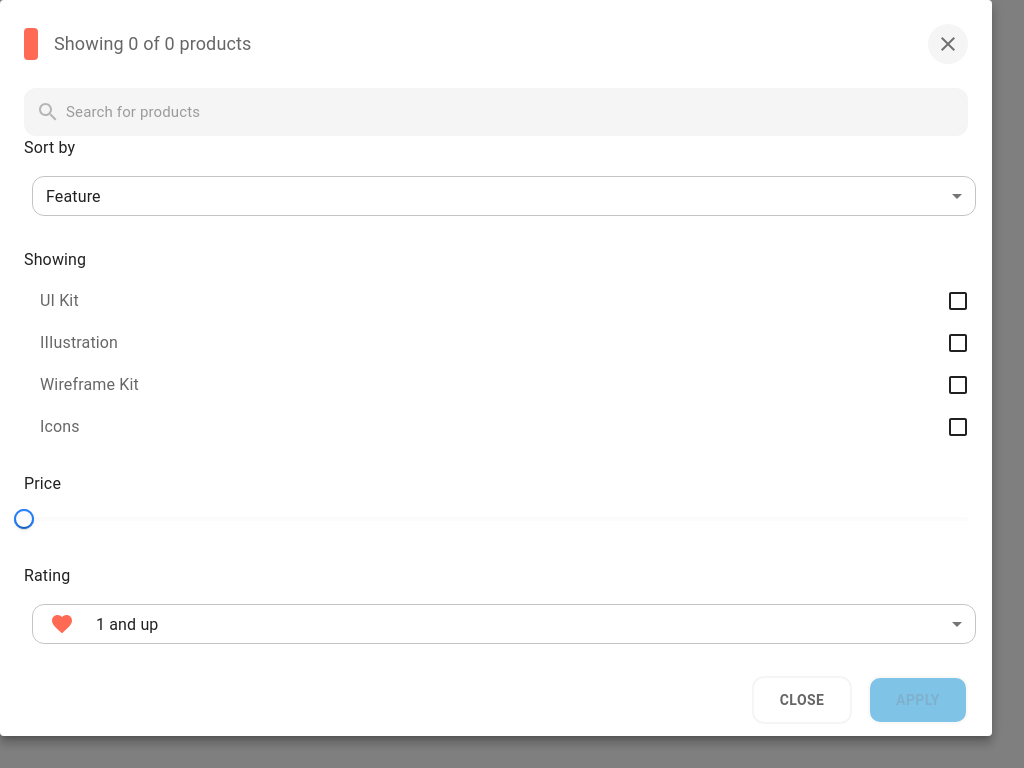
Test: ProductFilter Test › change to close button when reset filter modal
Step 1. Click the checkbox labelled "UI Kit" → (59, 300), box 40,289 -> 970,313
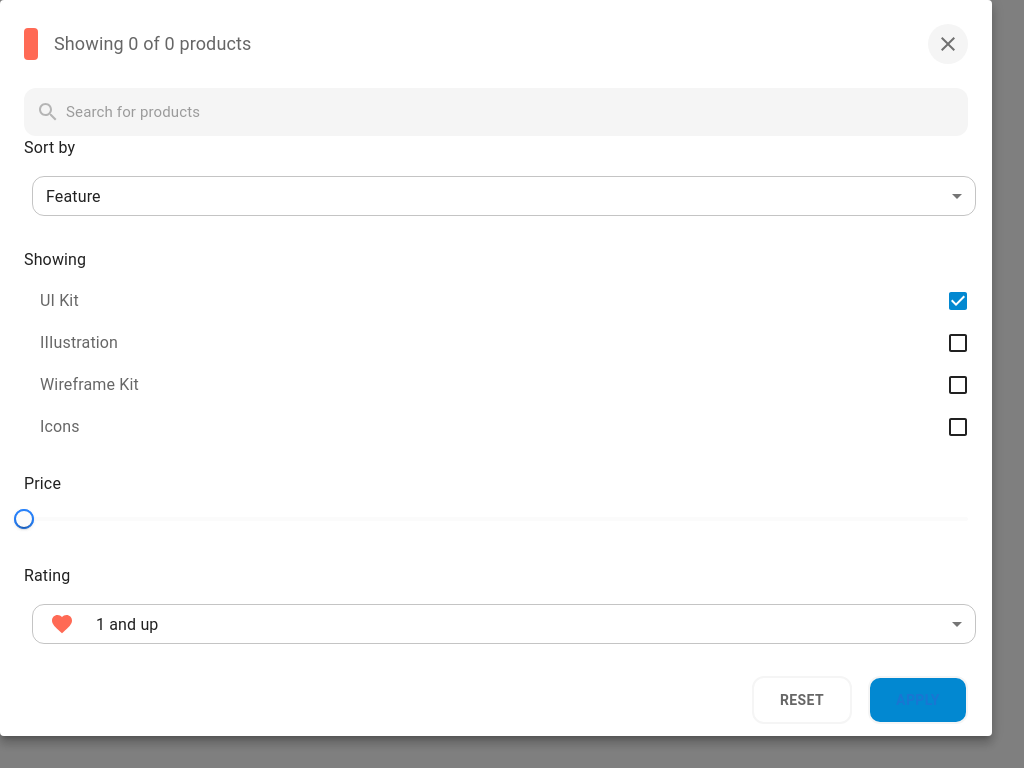
Step 2. Click the checkbox labelled "IIIustration" → (79, 342), box 40,331 -> 970,355
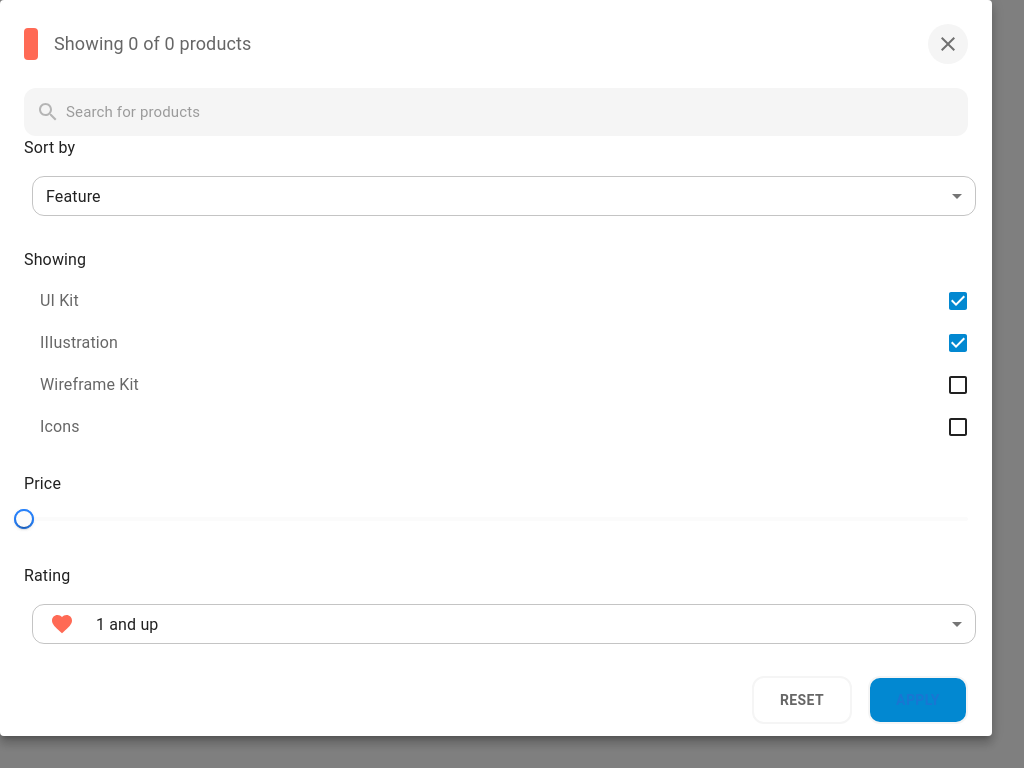
Step 3. Click the checkbox labelled "IIIustration" → (79, 342), box 40,331 -> 970,355
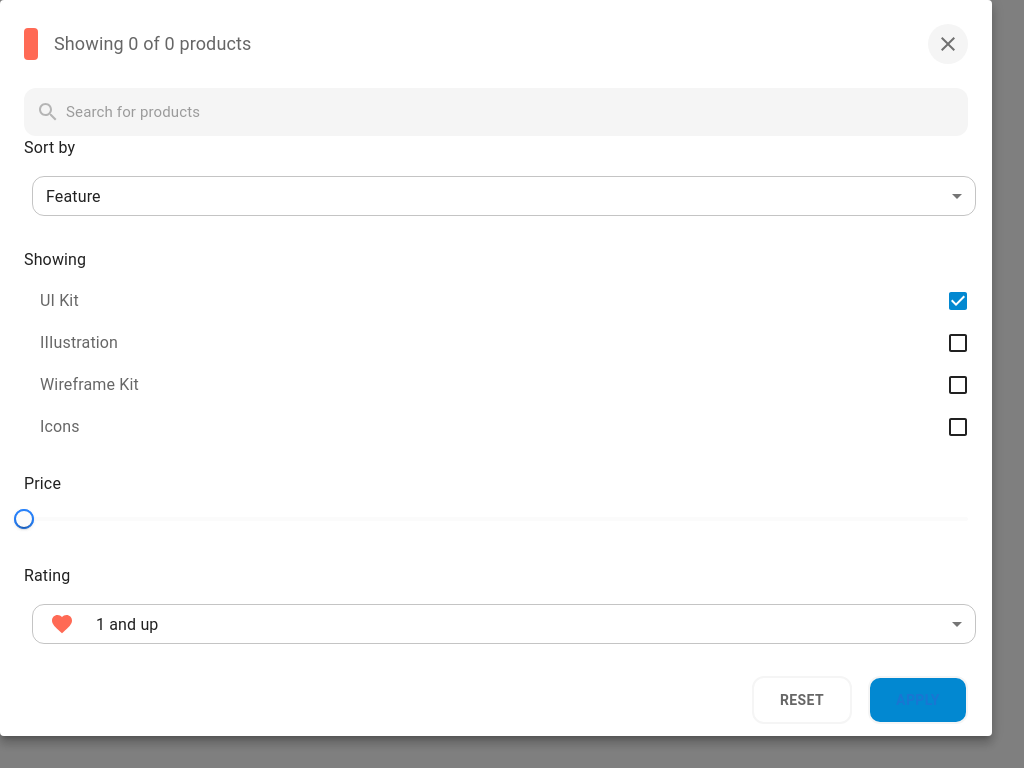
Step 4. Click the button "Reset" → (802, 700), box 752,676 -> 852,724
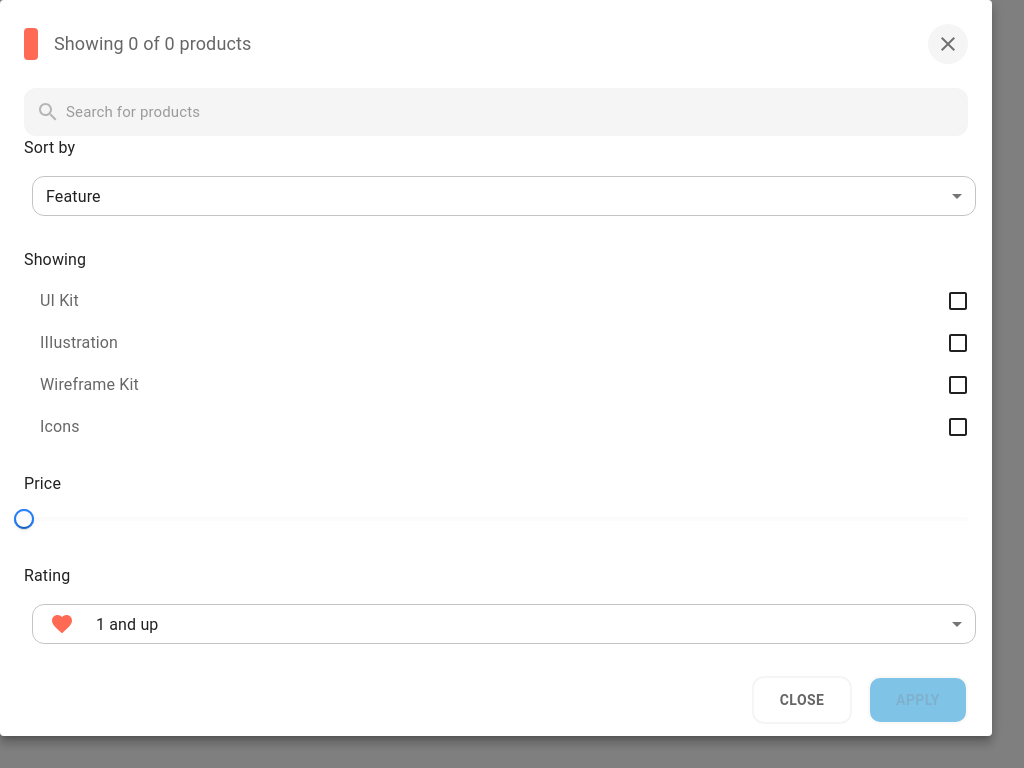
Expected: the button "Reset" is gone
